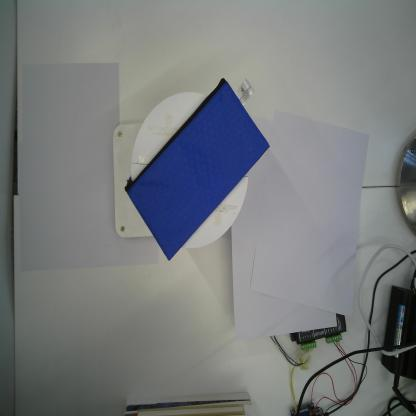Stationery: (124, 78, 270, 262)
